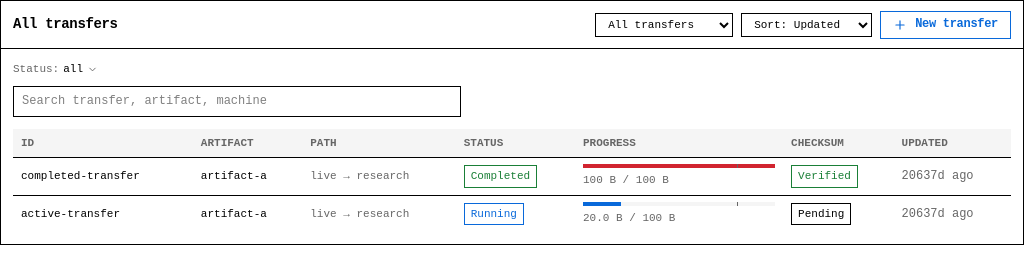
it: ResearchTransfersPage › shows an empty state when no transfers match the filters
Type "no-such-transfer" into the field named "search transfers". click: (237, 101)
box: x1=13 y1=86 x2=461 y2=117
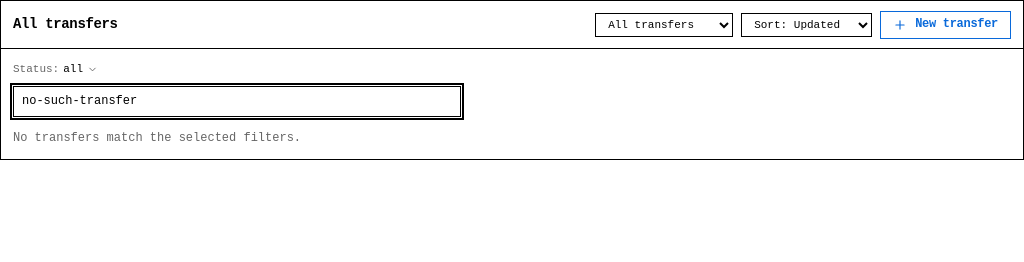
Now the text "No transfers match the selected filters." is shown, box x1=13 y1=131 x2=301 y2=145
